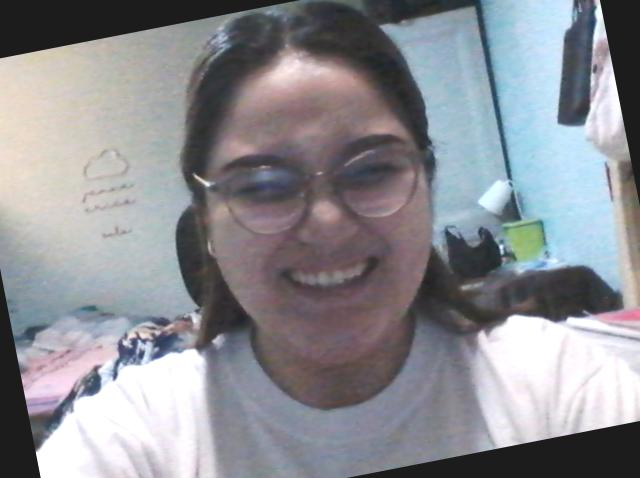senang: (170, 44, 461, 388)
